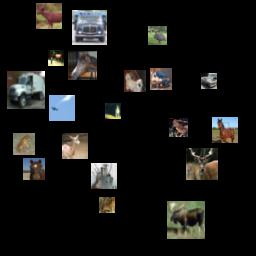airplane: (49, 95, 75, 121)
automobile: (150, 68, 172, 90), (201, 73, 217, 89)
bird: (148, 26, 167, 45)
cat: (105, 103, 121, 119)
deer: (167, 201, 205, 239), (186, 148, 218, 180), (36, 3, 62, 29), (62, 133, 88, 159), (48, 50, 64, 66), (99, 197, 115, 213)
dog: (124, 70, 146, 92)
frog: (13, 133, 35, 155), (169, 118, 188, 137)
ship: (91, 163, 117, 189)
truck: (7, 71, 45, 109), (72, 10, 107, 45)
